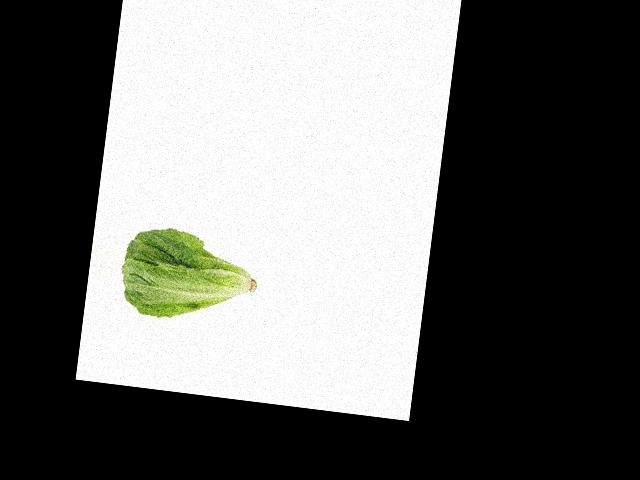lettuce: (118, 227, 266, 329)
